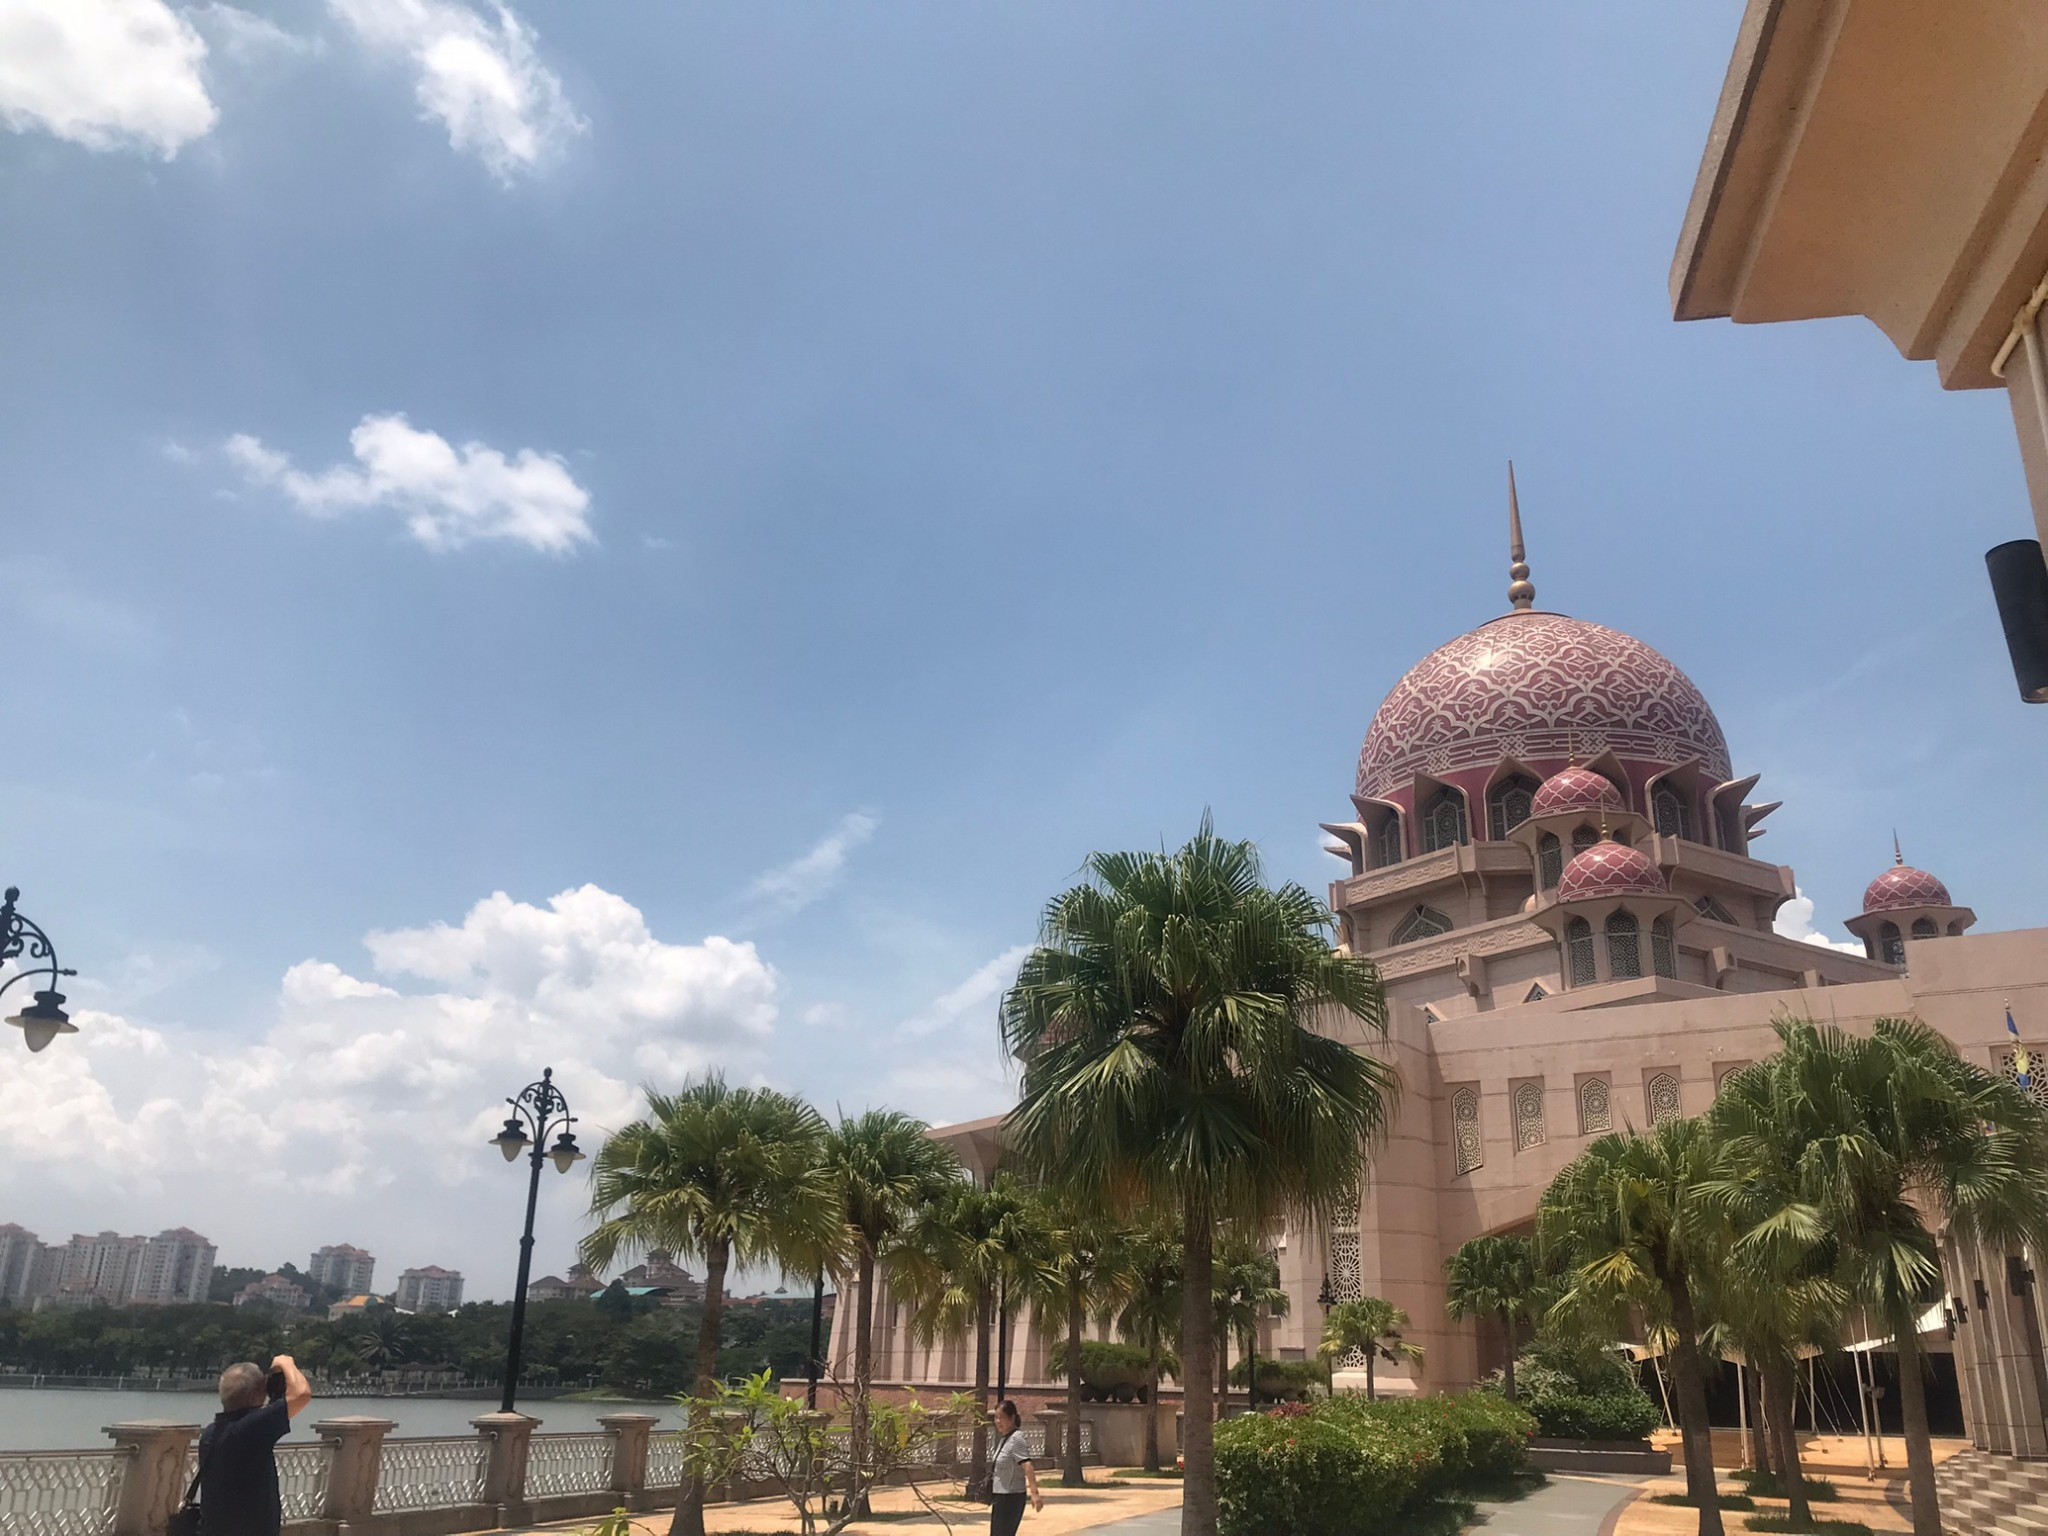people: (190, 1355, 293, 1534), (987, 1405, 1034, 1536)
